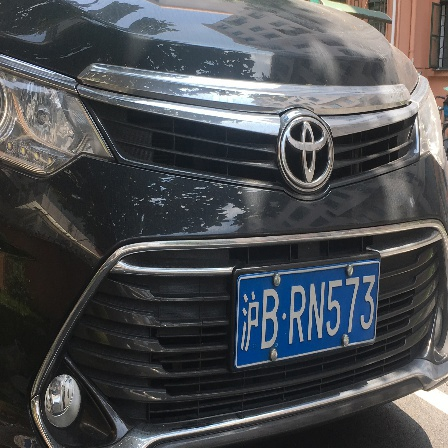plate: (236, 269, 377, 353)
